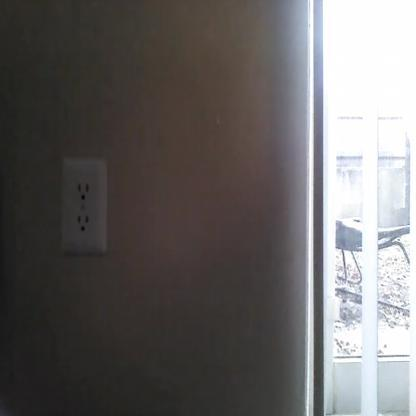OUTLET: (61, 158, 106, 254)
